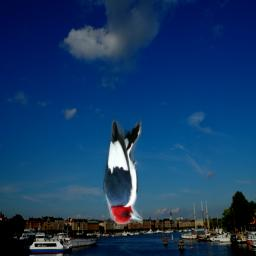Woodpecker: (103, 118, 143, 227)
